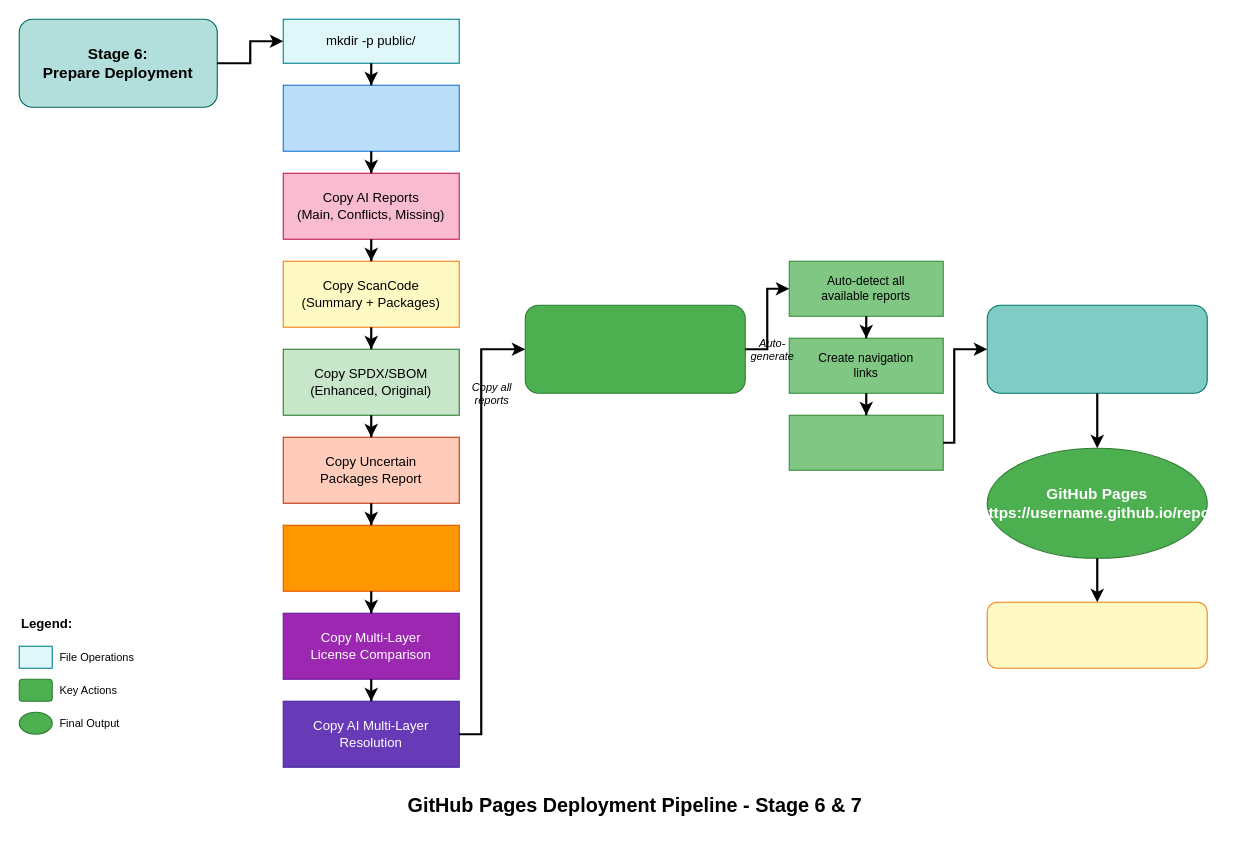
The diagram is 1234 pixels wide and 842 high, and some of its shapes have lost their labels. The shapes that lost their labels are listed below. From the top down, each one's centre as x and y in pixels, then its label:
At (370,117): "Copy ORT Reports (WebApp, StaticHTML)".
At (634,348): "Generate Landing Page index.html".
At (1096,348): "Stage 7: Deploy to GitHub Pages".
At (865,442): "Add metadata (date, version)".
At (370,557): "Copy PyPI Licenses (JSON, CSV, Stats)".
At (1096,634): "13+ Report Formats Accessible to Stakeholders".
